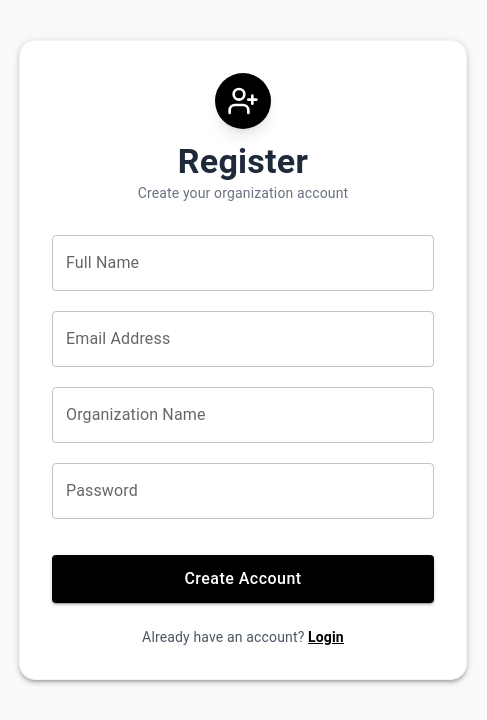
it: Register Unit Tests › should show validation errors when fields are empty
Click the button "Create Account".
click(243, 579)  # box [52,555,434,603]
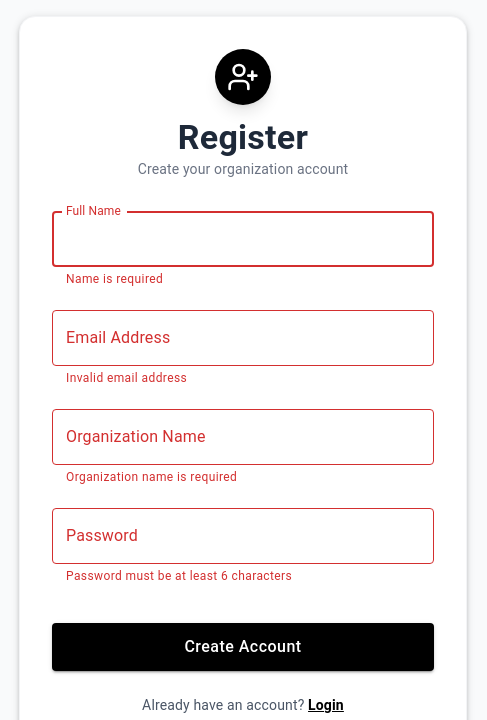
Expected: the text "Name is required" is shown, [66,272,163,286]
Expected: the text "Invalid email address" is shown, [66,371,187,385]
Expected: the text "Organization name is required" is shown, [66,470,237,484]
